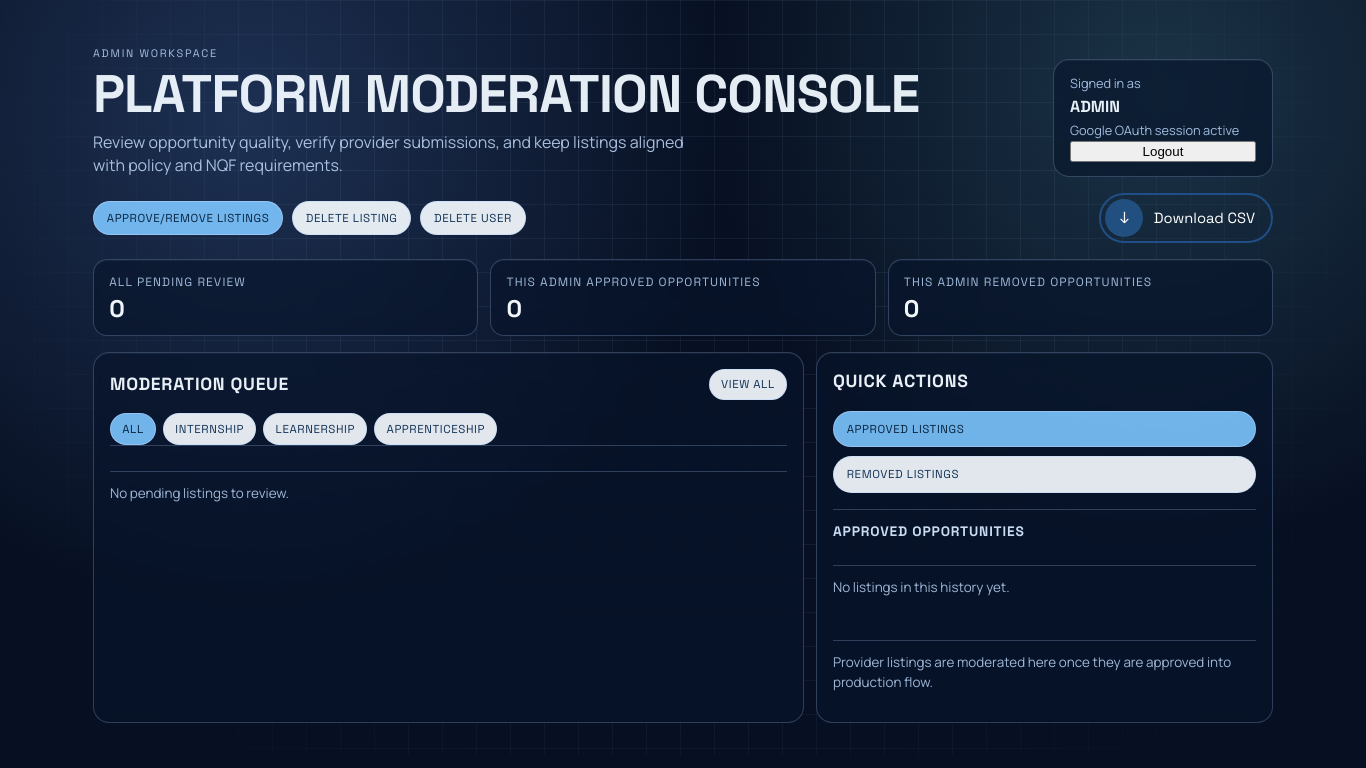
Test: Admin moderation queue TDD tests › 4. approve/remove tab shows the queue, delete tab, and download button
Expected: the tab "Approve/Remove Listings" is shown, 93,201 -> 283,235
Expected: the tab "Delete User" is shown, 420,201 -> 526,235
Click the tab "Delete Listing": (352, 218) 292,201 -> 411,235
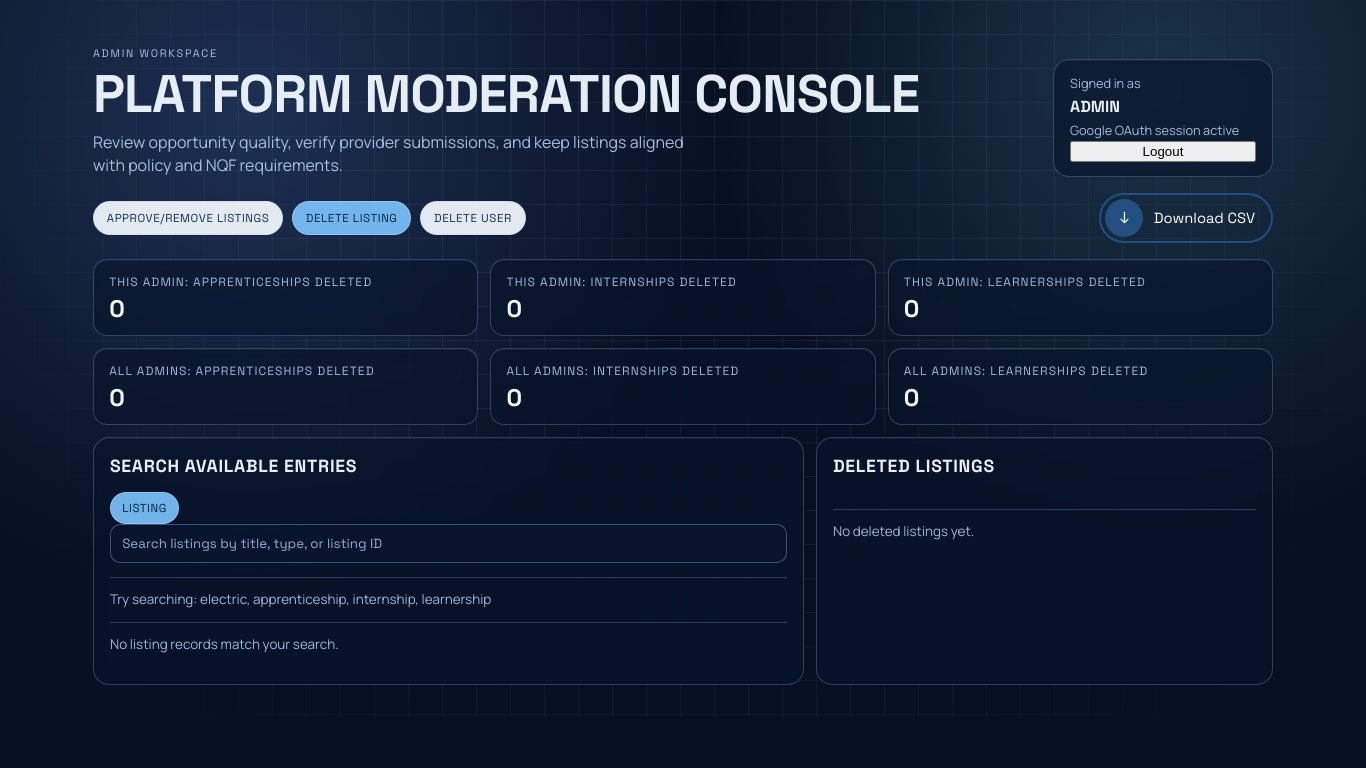
Expected: the text "This Admin: Apprenticeships Deleted" is shown, 109,274 -> 372,290
Expected: the text "All Admins: Apprenticeships Deleted" is shown, 109,363 -> 375,379
